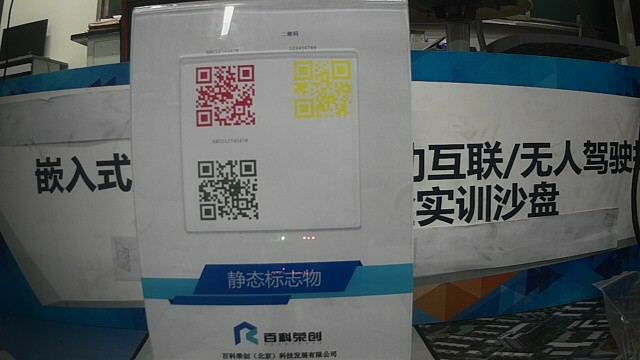qrcode: (192, 61, 261, 131), (194, 156, 263, 223), (289, 55, 355, 123)
